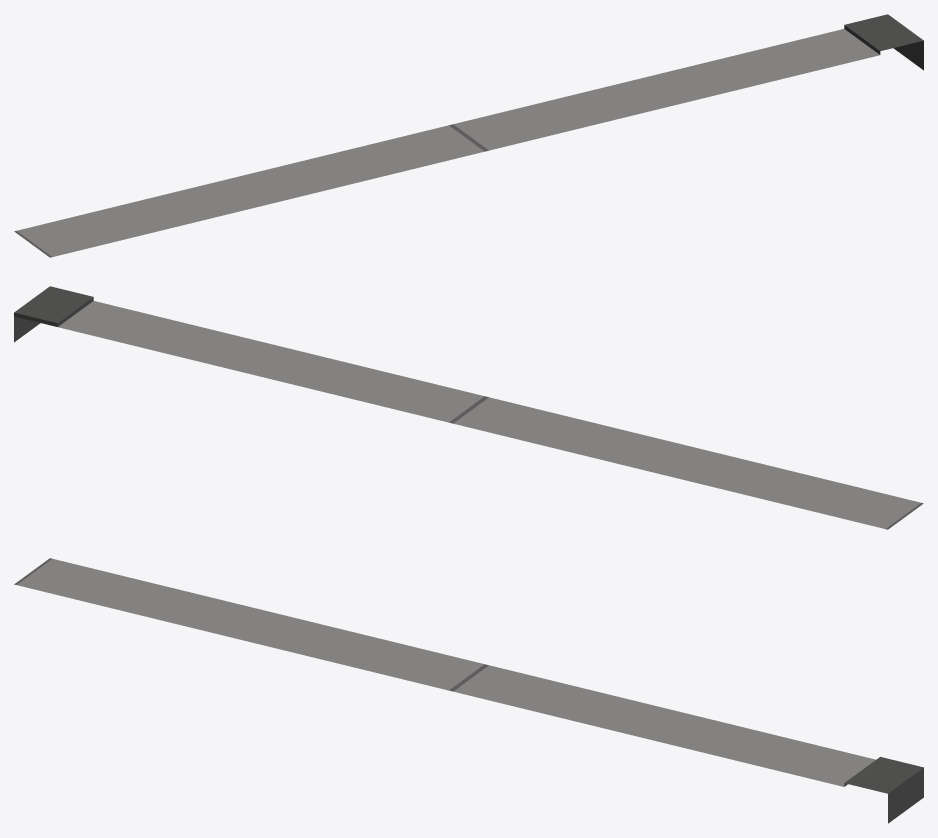
Rendered from M_SideWalk350x25_01.fbx.
3 views of the same model, one above another, from view 1: azimuth 30°, elevation 25°; view 2: azimuth 150°, elevation 25°; view 3: azimuth 330°, elevation 25° (orthographic).
Parts seen in each view (by area): view 1: M_SideWalk350x25_01; view 2: M_SideWalk350x25_01; view 3: M_SideWalk350x25_01.
Part boxes in pixels (left/top/right/bottom): M_SideWalk350x25_01: left=14, top=14, right=923, bottom=257; M_SideWalk350x25_01: left=14, top=286, right=923, bottom=529; M_SideWalk350x25_01: left=14, top=558, right=923, bottom=823.
Bounding box in the file's own units: 350 × 25 × 11.5.
